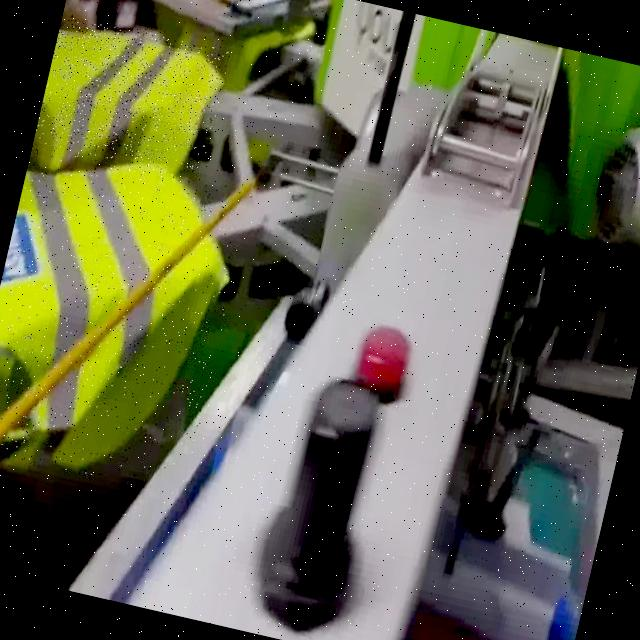vest: (0, 136, 254, 499), (27, 12, 230, 206)
